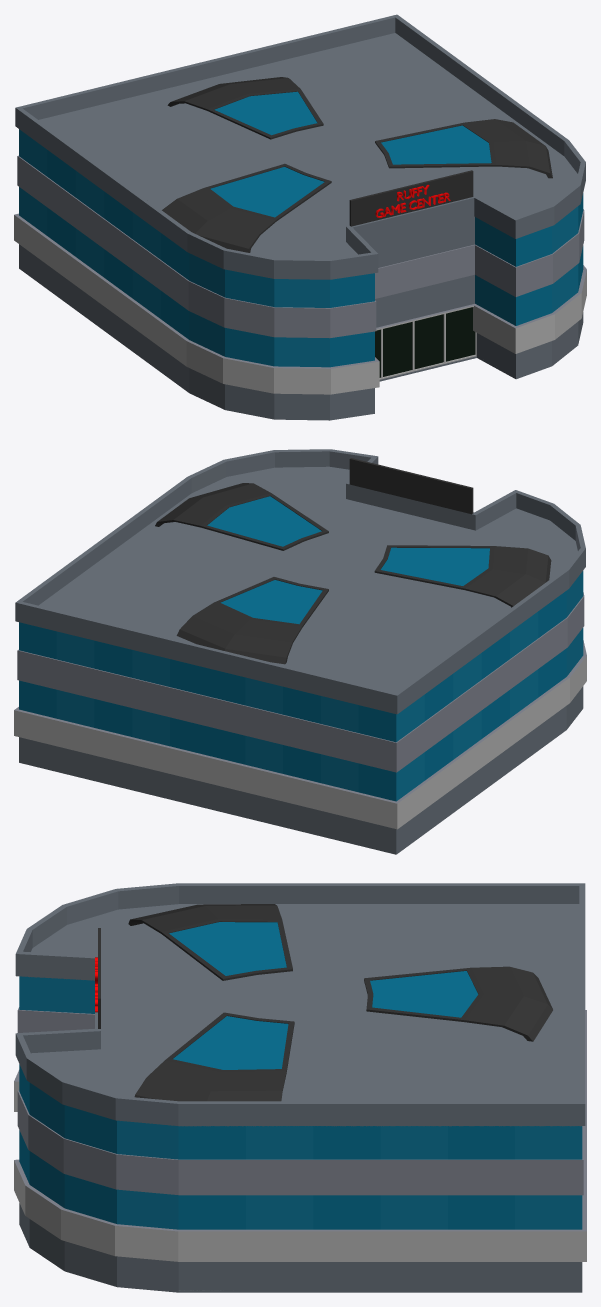
File: Ruffy_gamecenter.fbx
3 renders of one model, top to bottom at view 1: azimuth 30°, elevation 25°; view 2: azimuth 150°, elevation 25°; view 3: azimuth 270°, elevation 25°, orthographic. The views are drawn at different scales.
Visible parts, largest first — view 1: Game_center_outside, Plane.005, Plane.003, gameCenter.003, Cube, Plane.006, Ruffy_gamecenter_text; view 2: Game_center_outside, Plane.005, Plane.003, gameCenter.003, Cube, Plane.006; view 3: Game_center_outside, Plane.005, Plane.003, gameCenter.003, Plane.006.
Boxes of the visible parts, <box> form: Game_center_outside: <box>14,129,586,418</box>; Plane.005: <box>39,33,577,258</box>; Plane.003: <box>15,14,585,279</box>; gameCenter.003: <box>162,77,552,252</box>; Cube: <box>349,170,473,226</box>; Plane.006: <box>19,267,583,420</box>; Ruffy_gamecenter_text: <box>375,184,450,217</box>; Game_center_outside: <box>14,571,586,852</box>; Plane.005: <box>39,466,577,692</box>; Plane.003: <box>15,449,585,714</box>; gameCenter.003: <box>155,483,551,664</box>; Cube: <box>349,458,473,514</box>; Plane.006: <box>19,707,583,854</box>; Game_center_outside: <box>14,976,586,1290</box>; Plane.005: <box>29,904,581,1126</box>; Plane.003: <box>15,883,585,1125</box>; gameCenter.003: <box>128,904,552,1101</box>; Plane.006: <box>19,1223,582,1292</box>.
Size of the model in its own units: 4268 by 1980 by 4665.
3 materials, 3 textured.
